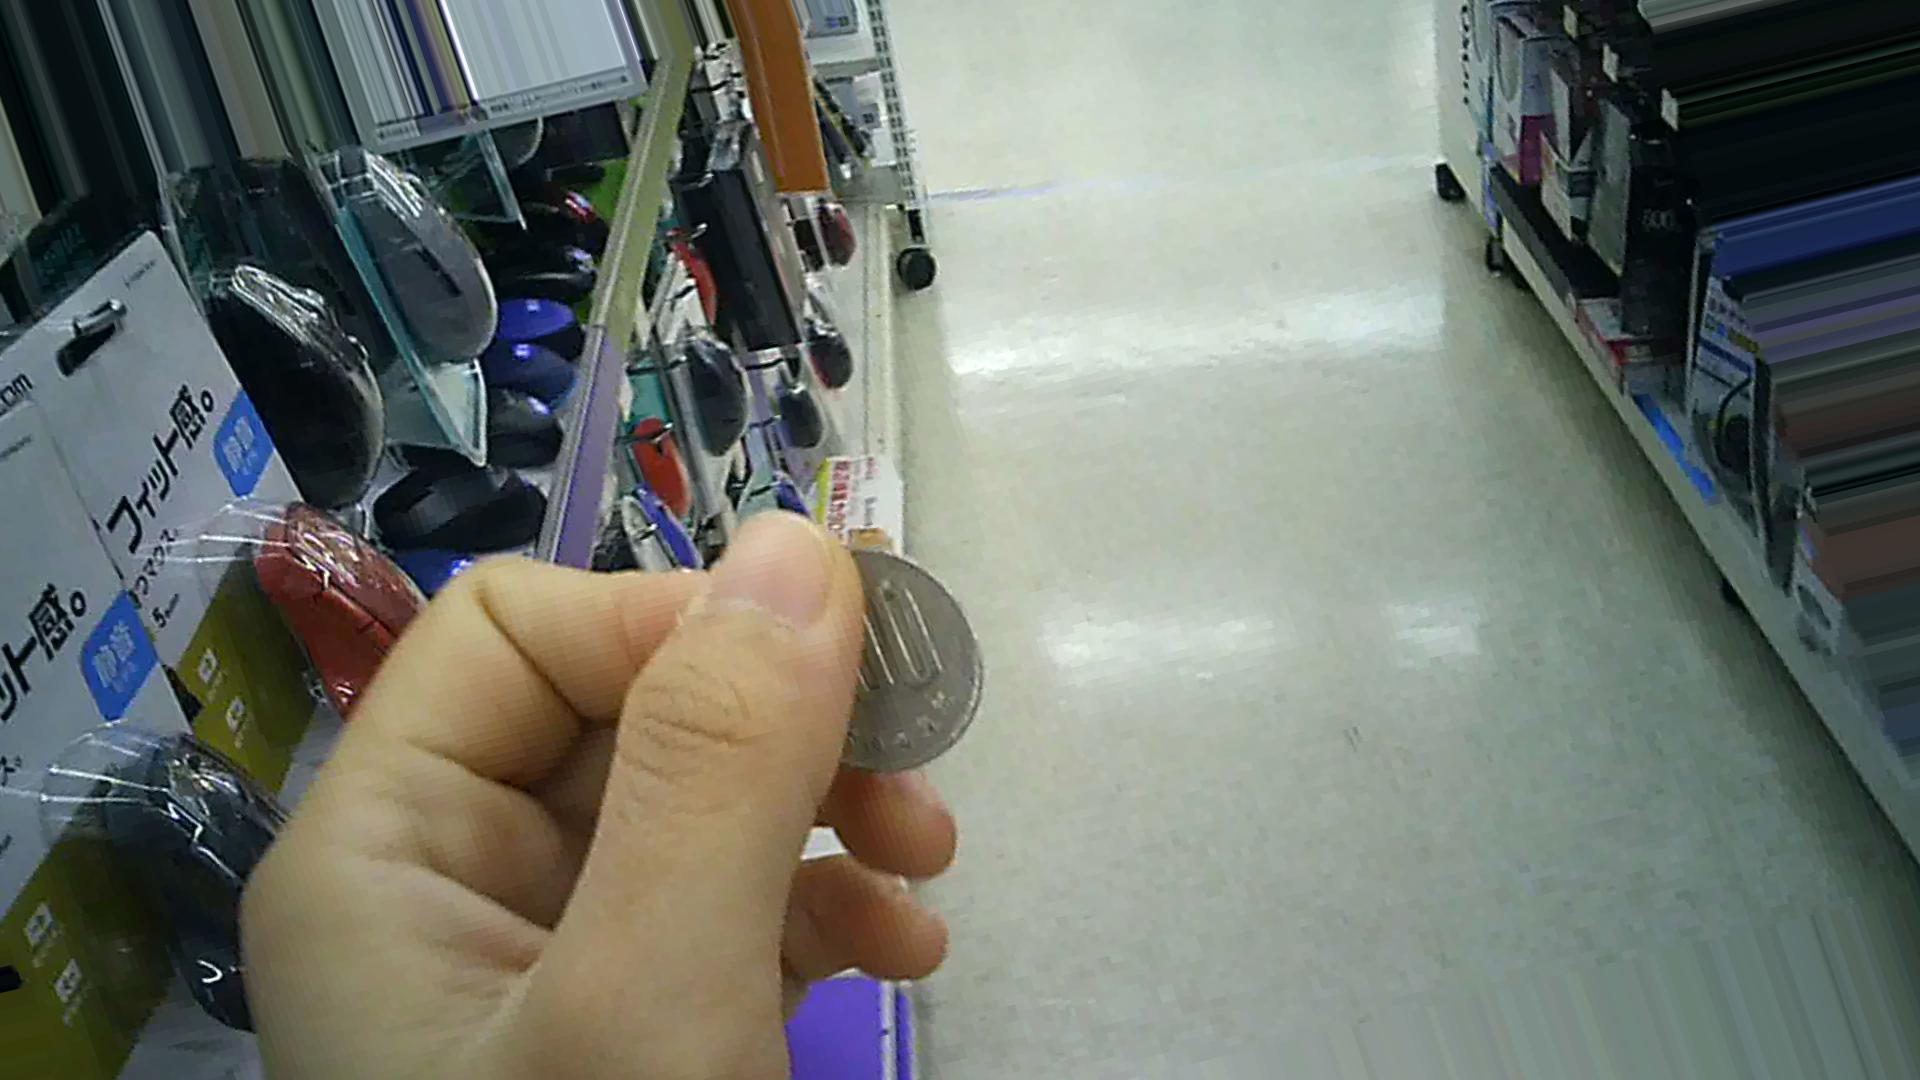100 Yen: (789, 543, 982, 781)
